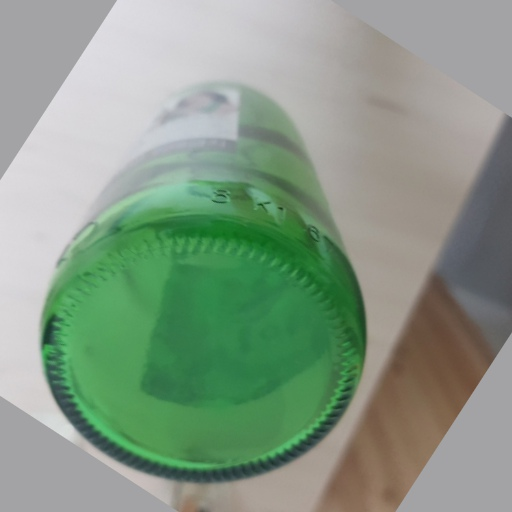Glass_0: (40, 78, 372, 480)
